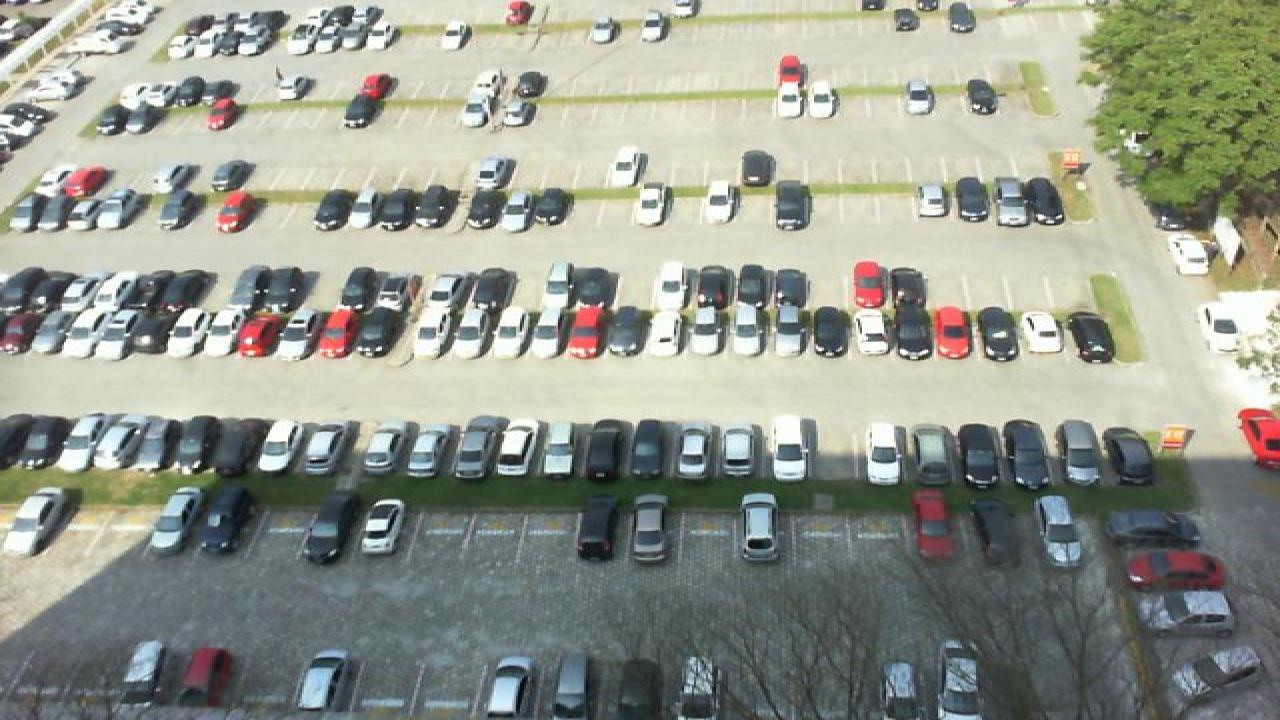Car: (1172, 642, 1260, 704), (2, 488, 78, 557), (1132, 590, 1234, 636), (972, 496, 1038, 567), (144, 486, 206, 558), (298, 493, 360, 565), (1124, 548, 1228, 590), (1102, 507, 1208, 548), (204, 485, 262, 556), (180, 646, 236, 719), (294, 648, 350, 720), (910, 488, 964, 562), (936, 639, 984, 720), (1034, 494, 1086, 567), (476, 653, 532, 720), (1002, 418, 1054, 490), (1054, 418, 1106, 490), (450, 415, 508, 479), (606, 657, 662, 720), (736, 490, 782, 564), (118, 639, 164, 713), (766, 414, 814, 483), (1102, 425, 1156, 486), (572, 493, 620, 561), (954, 421, 1002, 489), (674, 652, 722, 720), (356, 496, 408, 557), (56, 411, 108, 472), (582, 419, 632, 482), (628, 491, 672, 562), (548, 653, 594, 720), (0, 414, 54, 471), (864, 421, 910, 487), (908, 423, 956, 486), (92, 414, 144, 472), (300, 417, 352, 475), (494, 420, 544, 478), (628, 419, 674, 482), (214, 416, 262, 476), (130, 417, 182, 472), (672, 420, 718, 482), (716, 423, 766, 480), (176, 415, 224, 474), (408, 423, 458, 477), (1066, 312, 1116, 364), (30, 307, 80, 358), (310, 307, 358, 360), (256, 420, 302, 474), (354, 305, 400, 359), (976, 307, 1022, 361), (362, 424, 406, 479), (72, 306, 116, 360), (160, 305, 204, 359), (932, 305, 974, 361), (542, 421, 582, 479), (1018, 310, 1068, 356), (0, 264, 50, 310), (454, 306, 496, 360), (112, 307, 156, 358), (412, 307, 454, 360), (766, 306, 808, 359), (238, 312, 286, 358), (230, 264, 278, 310), (158, 268, 208, 312), (200, 307, 242, 359), (990, 176, 1032, 228), (566, 303, 604, 360), (646, 304, 686, 358), (38, 269, 86, 314), (850, 306, 892, 357), (726, 306, 766, 359), (774, 179, 814, 232), (1024, 177, 1068, 225), (810, 307, 850, 359), (1168, 231, 1214, 276), (120, 268, 166, 312), (274, 266, 318, 312), (686, 306, 724, 359), (892, 306, 930, 359), (312, 187, 356, 232), (952, 175, 992, 224), (528, 307, 566, 358), (8, 187, 50, 233), (0, 306, 38, 356), (604, 307, 642, 357), (80, 270, 124, 313), (280, 307, 318, 356), (654, 260, 692, 309), (850, 260, 888, 309), (212, 190, 254, 234), (340, 266, 380, 312), (386, 184, 426, 230), (496, 308, 532, 357), (476, 268, 518, 310), (48, 191, 90, 233), (94, 189, 136, 231), (374, 268, 414, 312), (574, 264, 614, 308), (694, 264, 732, 310), (888, 266, 926, 312), (350, 186, 388, 232), (422, 184, 460, 230), (700, 180, 738, 226), (630, 181, 668, 226), (772, 266, 810, 310), (468, 188, 506, 232), (734, 264, 770, 310), (158, 189, 196, 232), (536, 188, 574, 231), (612, 145, 650, 188), (500, 184, 536, 228), (438, 270, 476, 310), (546, 261, 578, 308), (208, 159, 256, 190), (156, 161, 202, 193), (66, 164, 110, 197), (742, 148, 776, 188), (342, 94, 382, 128), (460, 94, 500, 128), (476, 155, 514, 190), (274, 68, 312, 102), (774, 79, 806, 119), (96, 102, 134, 135), (914, 182, 950, 216), (964, 78, 998, 114), (206, 98, 244, 130), (358, 72, 398, 101), (904, 79, 936, 115), (472, 69, 508, 101), (164, 78, 202, 108), (130, 102, 164, 134), (808, 81, 838, 117), (120, 82, 162, 107), (202, 76, 238, 105), (192, 28, 226, 58), (222, 28, 256, 58), (498, 99, 534, 127), (440, 20, 472, 51), (556, 15, 590, 44), (514, 70, 546, 100), (946, 2, 976, 34), (892, 3, 922, 34), (250, 27, 282, 56), (314, 26, 344, 55), (340, 23, 370, 52), (776, 53, 804, 84), (166, 30, 198, 57), (290, 26, 320, 54), (644, 11, 670, 42), (368, 24, 398, 50)
